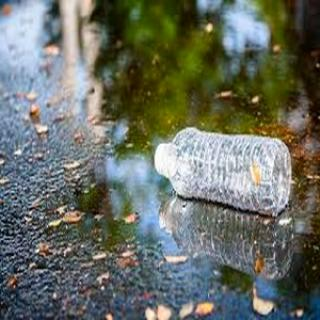Plastic: (153, 127, 291, 215)
